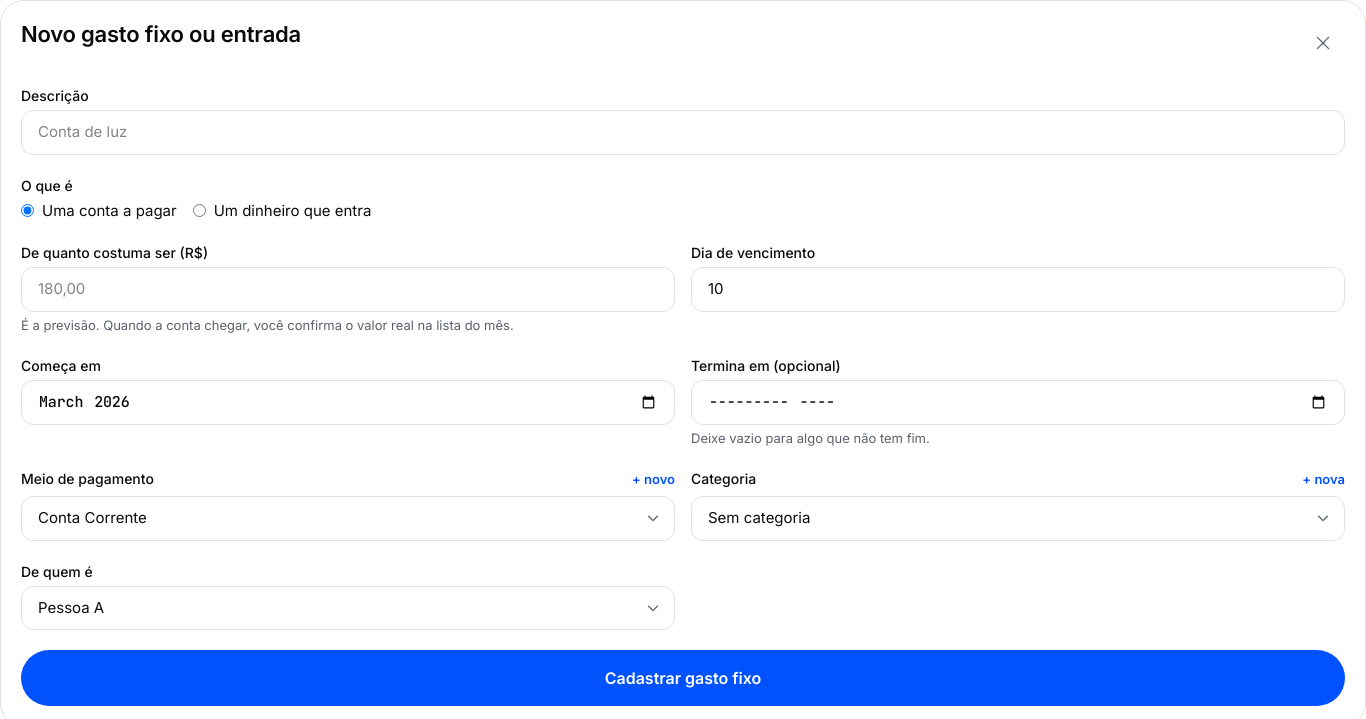
it: o cadastro (FIXCOL-06, ACs 2 e 3) › cadastrar mantém o formulário, com a confirmação e os campos limpos
Type "Fixo E" into the field labelled "Descrição" at (683, 132), box [21, 110, 1345, 154]
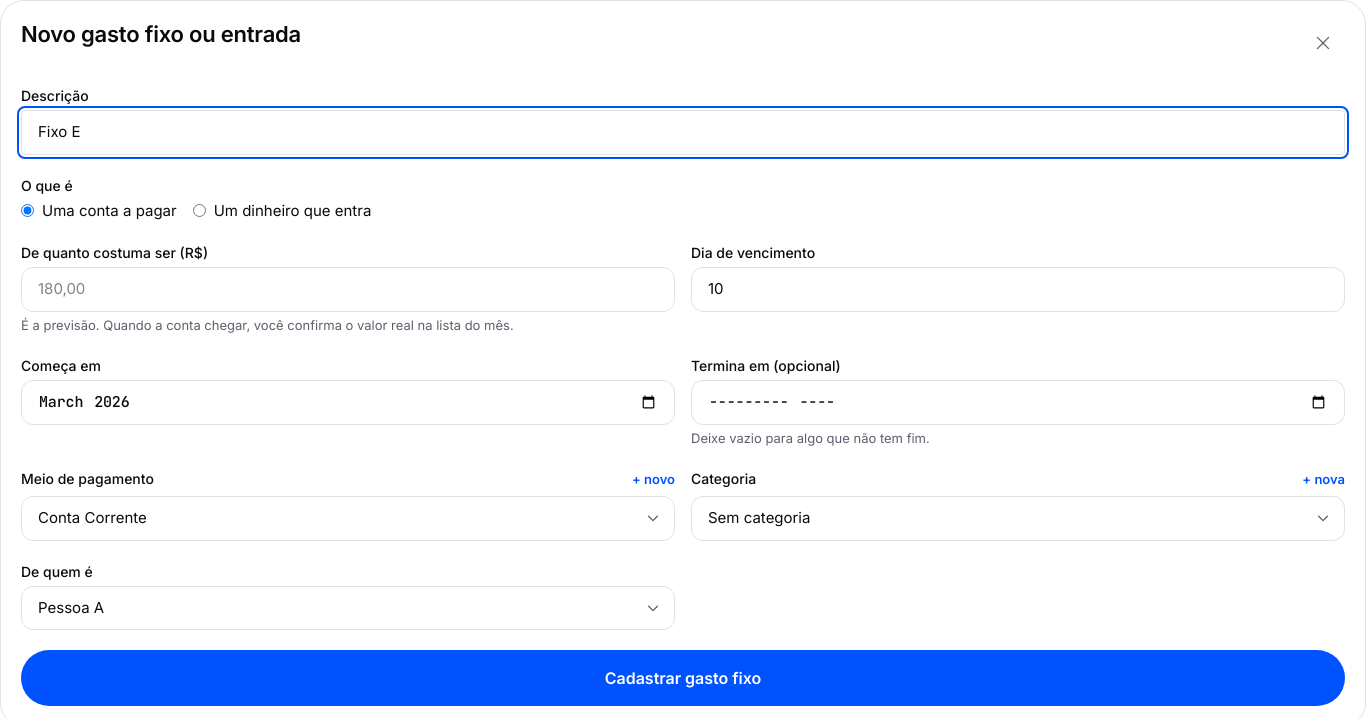
Type "70,00" into the field labelled "De quanto costuma ser (R$)" at (348, 289), box [21, 267, 675, 312]
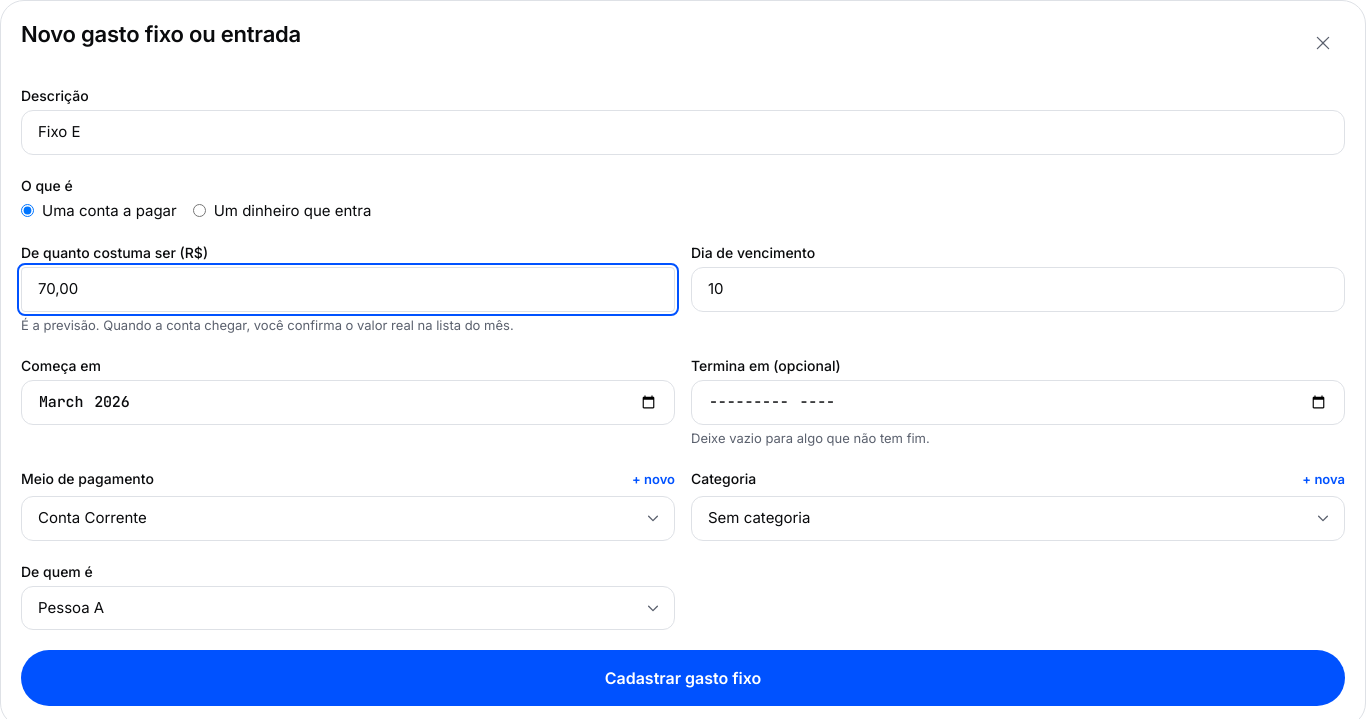
Click the button "Cadastrar gasto fixo" at (683, 678), box [21, 650, 1345, 706]
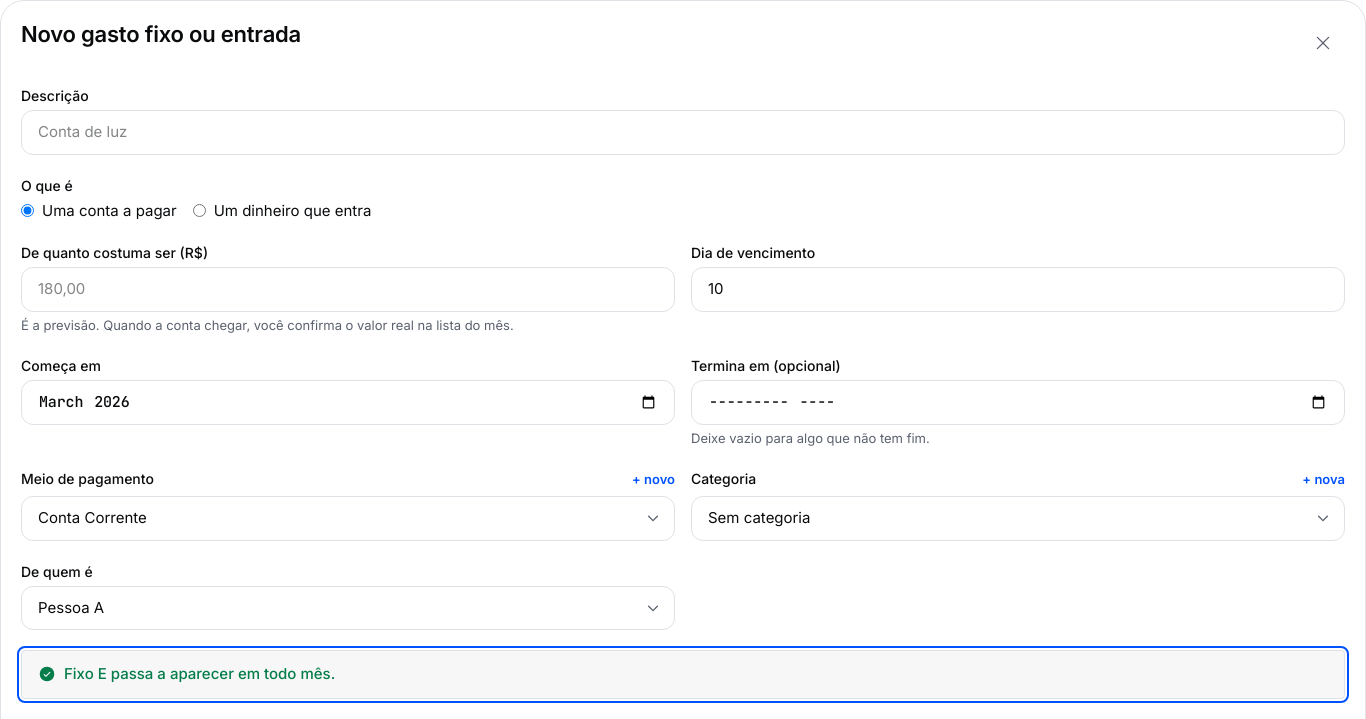
Expected: the message reads "Fixo E passa a aparecer em todo mês.", [64, 664, 335, 683]
Expected: the field labelled "Descrição" is empty, [21, 110, 1345, 154]
